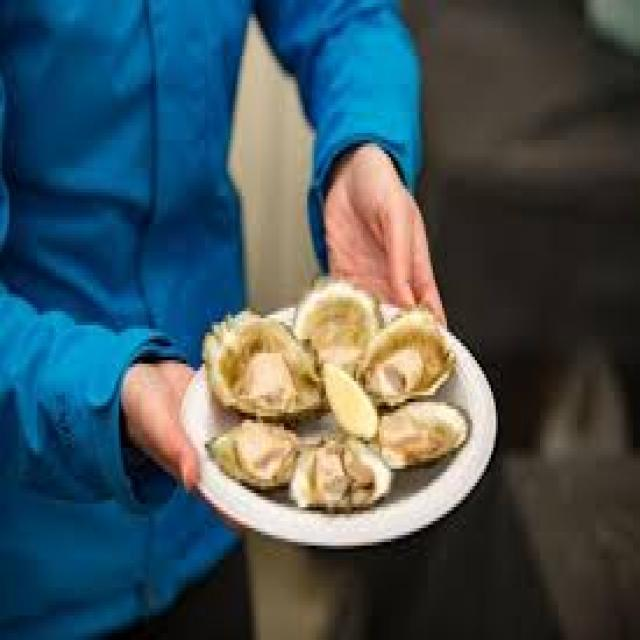Oyster- Indeterminate: (201, 312, 332, 424), (288, 277, 404, 374), (353, 308, 453, 413), (288, 418, 393, 513), (379, 399, 471, 471), (208, 421, 300, 493)
